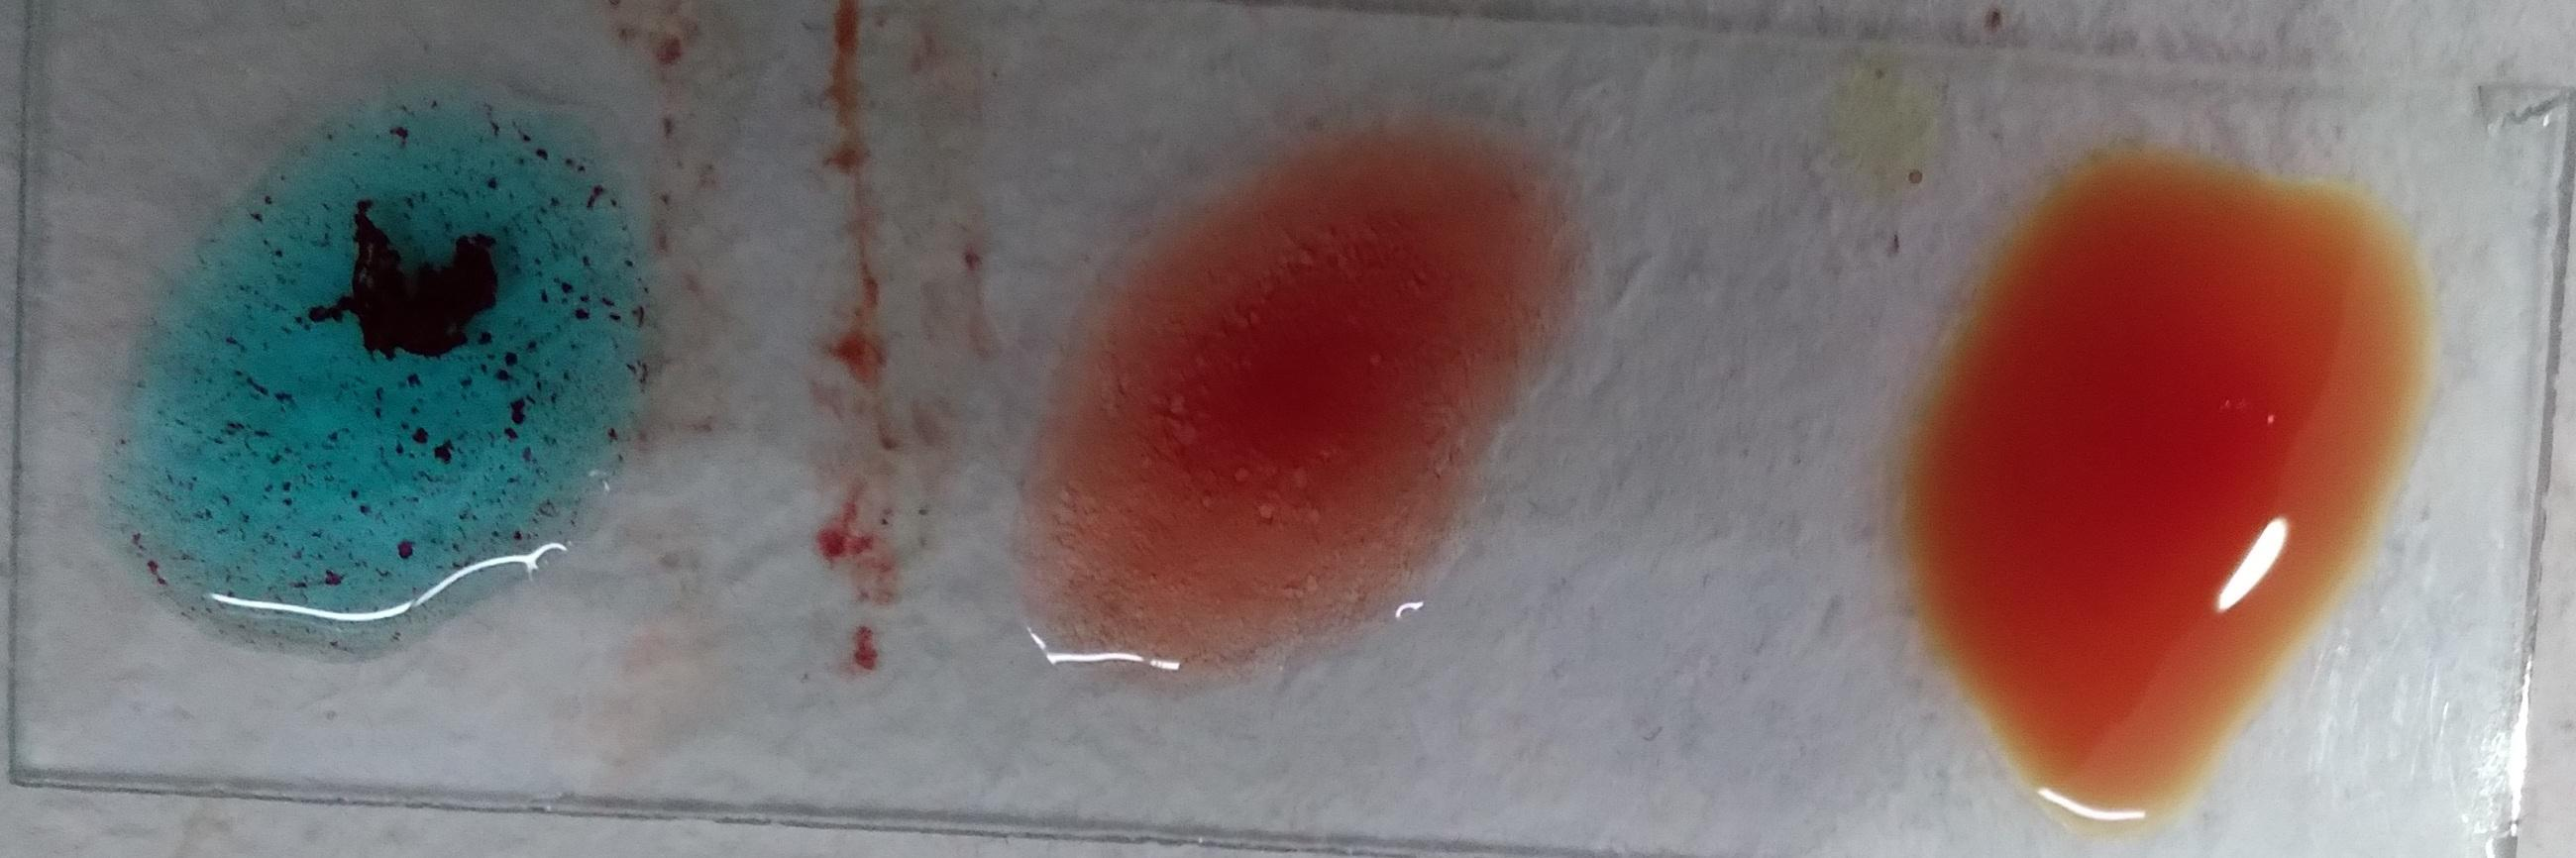A: (1945, 214, 2436, 759)
D: (1046, 201, 1513, 730)
